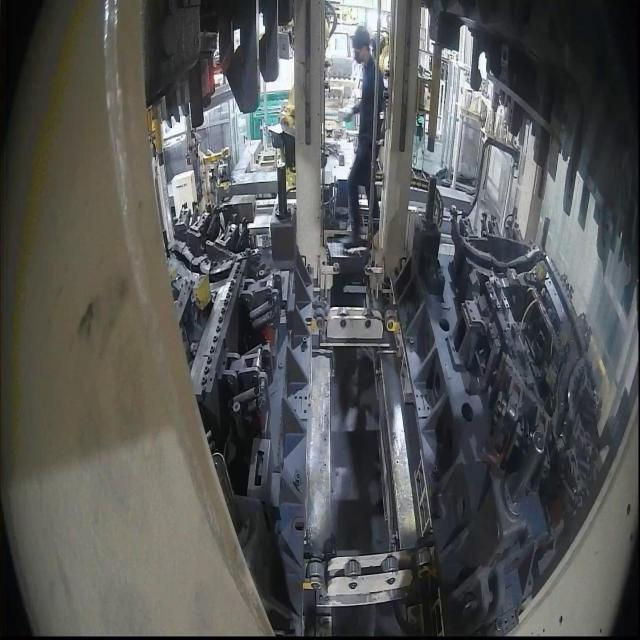Person: (345, 25, 385, 244)
